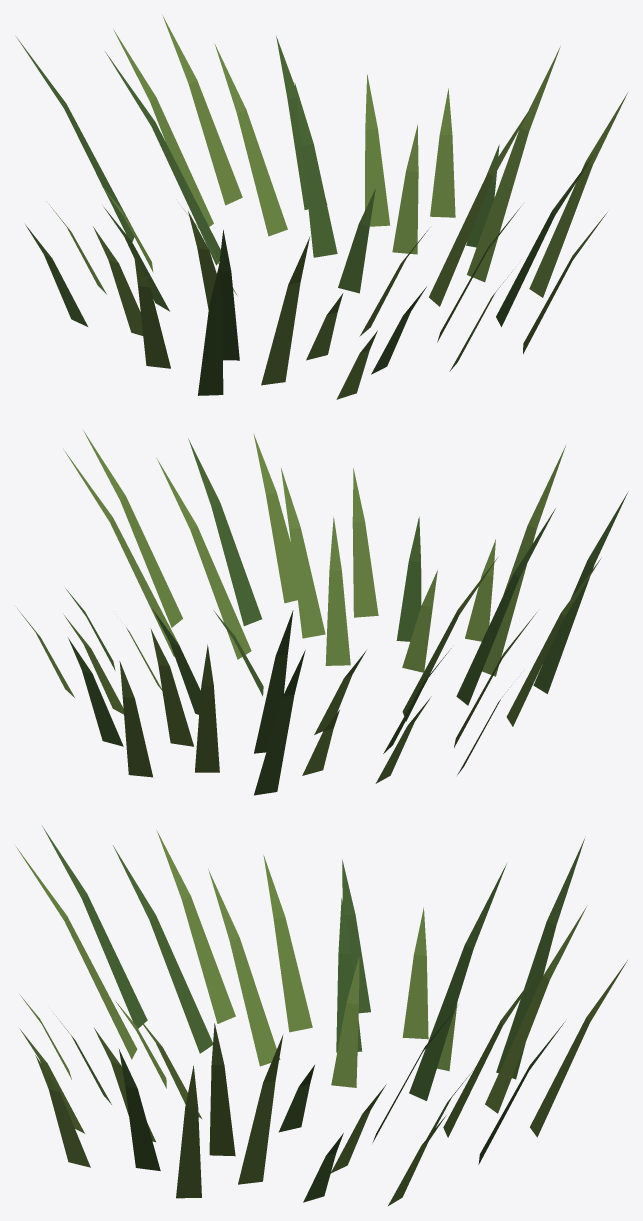
3 views of the same model, one above another, from view 1: azimuth 30°, elevation 25°; view 2: azimuth 150°, elevation 25°; view 3: azimuth 270°, elevation 25° (orthographic). The views are drawn at different scales.
Parts seen in each view (by area): view 1: canopy-short-grass · evaluated preview mesh; view 2: canopy-short-grass · evaluated preview mesh; view 3: canopy-short-grass · evaluated preview mesh.
Part boxes in pixels (x1,y1,x2,y2): canopy-short-grass · evaluated preview mesh: (16,15,627,399); canopy-short-grass · evaluated preview mesh: (17,430,628,795); canopy-short-grass · evaluated preview mesh: (16,826,627,1205).
Size of the model in its own units: 0.8595 by 0.304 by 0.8481.
